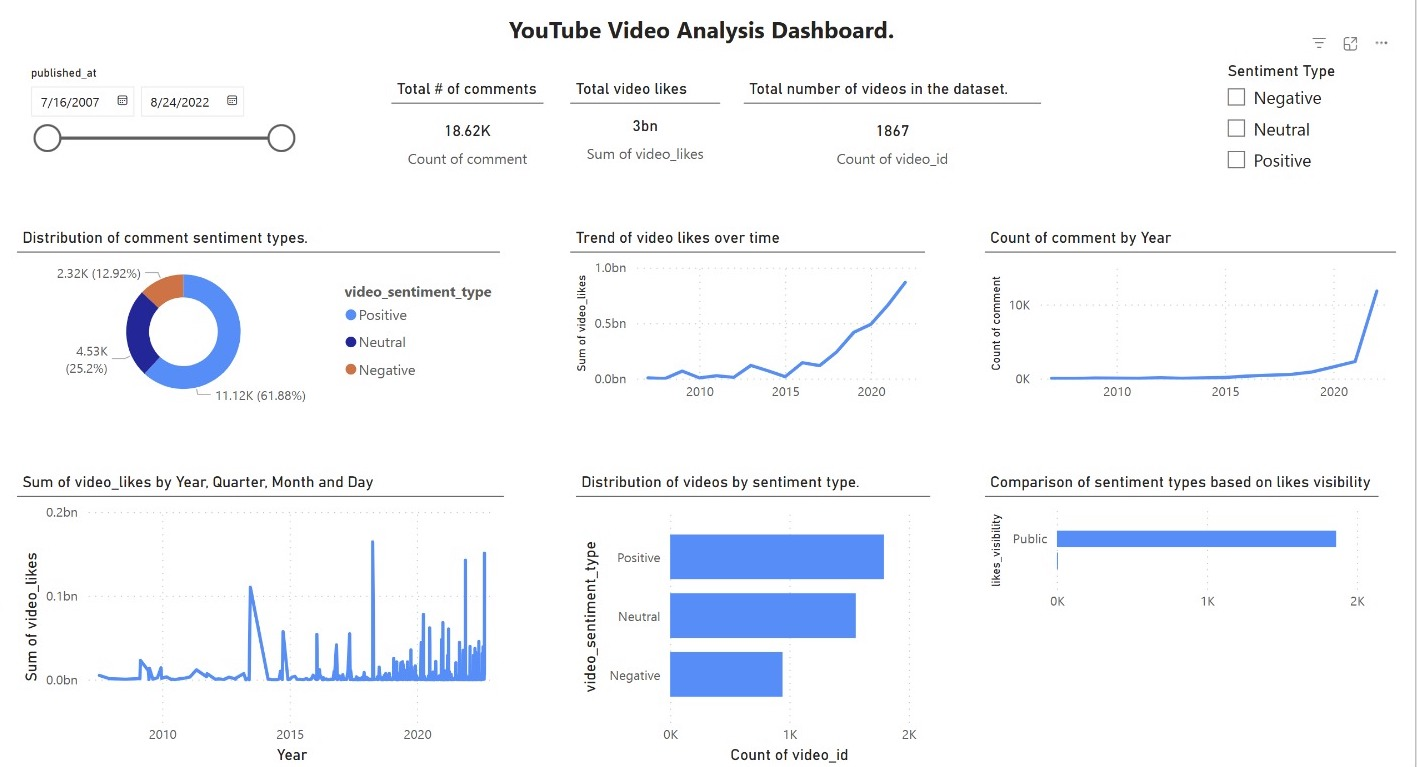

The dashboard page shown, as its layout file describes it:
{"tool":"powerbi","page":{"name":"Page 1","canvas":[1280,720],"ordinal":0},"visuals":[{"type":"textbox","box":[452,15,376.7,45.8],"z":0},{"type":"card","title":"Total video likes","fields":{"Values":["Sum(combined_data.video_likes)"]},"box":[513.4,81.2,138.8,81.9],"z":1000},{"type":"card","title":"Total # of comments","fields":{"Values":["CountNonNull(combined_data.comment)"]},"box":[347.6,81.2,140.8,91.4],"z":2000},{"type":"lineChart","fields":{"Y":["Sum(combined_data.video_likes)"],"Category":["combined_data.published_at.Variation.Date Hierarchy.Year","combined_data.published_at.Variation.Date Hierarchy.Quarter","combined_data.published_at.Variation.Date Hierarchy.Month","combined_data.published_at.Variation.Date Hierarchy.Day"]},"box":[0,446.7,452.2,273.5],"z":3000},{"type":"card","title":"Total number of videos in the dataset.","fields":{"Values":["Count(combined_data.video_id)"]},"box":[674.5,81.2,276.2,91.4],"z":5000},{"type":"barChart","title":"Distribution of videos by sentiment type.","fields":{"Category":["combined_data.video_sentiment_type"],"Y":["Count(combined_data.video_id)"]},"box":[519.2,446.7,329,273.5],"z":6000},{"type":"barChart","title":"Comparison of sentiment types based on likes visibility","fields":{"Category":["combined_data.likes_visibility"],"Y":["Count(combined_data.video_id)"]},"box":[898.2,446.7,365.5,136.7],"z":7000},{"type":"donutChart","title":"Distribution of comment sentiment types.","fields":{"Y":["Count(combined_data.comment)"],"Category":["combined_data.video_sentiment_type"]},"box":[0,220,448.1,168.5],"z":8000},{"type":"lineChart","title":"Trend of video likes over time","fields":{"Category":["combined_data.published_at.Variation.Date Hierarchy.Year","combined_data.published_at.Variation.Date Hierarchy.Quarter","combined_data.published_at.Variation.Date Hierarchy.Month","combined_data.published_at.Variation.Date Hierarchy.Day"],"Y":["Sum(combined_data.video_likes)"]},"box":[513.8,220,329,168.5],"z":9000},{"type":"slicer","fields":{"Values":["combined_data.video_sentiment_type"]},"box":[1110.8,60.2,169.2,159.7],"z":10000},{"type":"lineChart","fields":{"Category":["combined_data.published_at.Variation.Date Hierarchy.Year","combined_data.published_at.Variation.Date Hierarchy.Quarter","combined_data.published_at.Variation.Date Hierarchy.Month","combined_data.published_at.Variation.Date Hierarchy.Day"],"Y":["CountNonNull(combined_data.comment)"]},"box":[898.2,220,381.8,168.5],"z":10002},{"type":"slicer","fields":{"Values":["combined_data.published_at"]},"box":[0,63.6,266.7,99.5],"z":10003}]}

Visuals, with their boxes on the page's 1280x720 design canvas (x1, y1, x2, y2). These are canvas units, not pixel positions in the 1417x767 screenshot, which may show the page scaled, cropped or inside an application window:
textbox: crop(452, 15, 829, 61)
"Total video likes" card: crop(513, 81, 652, 163)
"Total # of comments" card: crop(348, 81, 488, 173)
lineChart - Sum(combined_data.video_likes) x combined_data.published_at.Variation.Date Hierarchy.Year: crop(0, 447, 452, 720)
"Total number of videos in the dataset." card: crop(674, 81, 951, 173)
"Distribution of videos by sentiment type." barChart: crop(519, 447, 848, 720)
"Comparison of sentiment types based on likes visibility" barChart: crop(898, 447, 1264, 583)
"Distribution of comment sentiment types." donutChart: crop(0, 220, 448, 388)
"Trend of video likes over time" lineChart: crop(514, 220, 843, 388)
slicer - combined_data.video_sentiment_type: crop(1111, 60, 1280, 220)
lineChart - combined_data.published_at.Variation.Date Hierarchy.Year x combined_data.published_at.Variation.Date Hierarchy.Quarter: crop(898, 220, 1280, 388)
slicer - combined_data.published_at: crop(0, 64, 267, 163)
